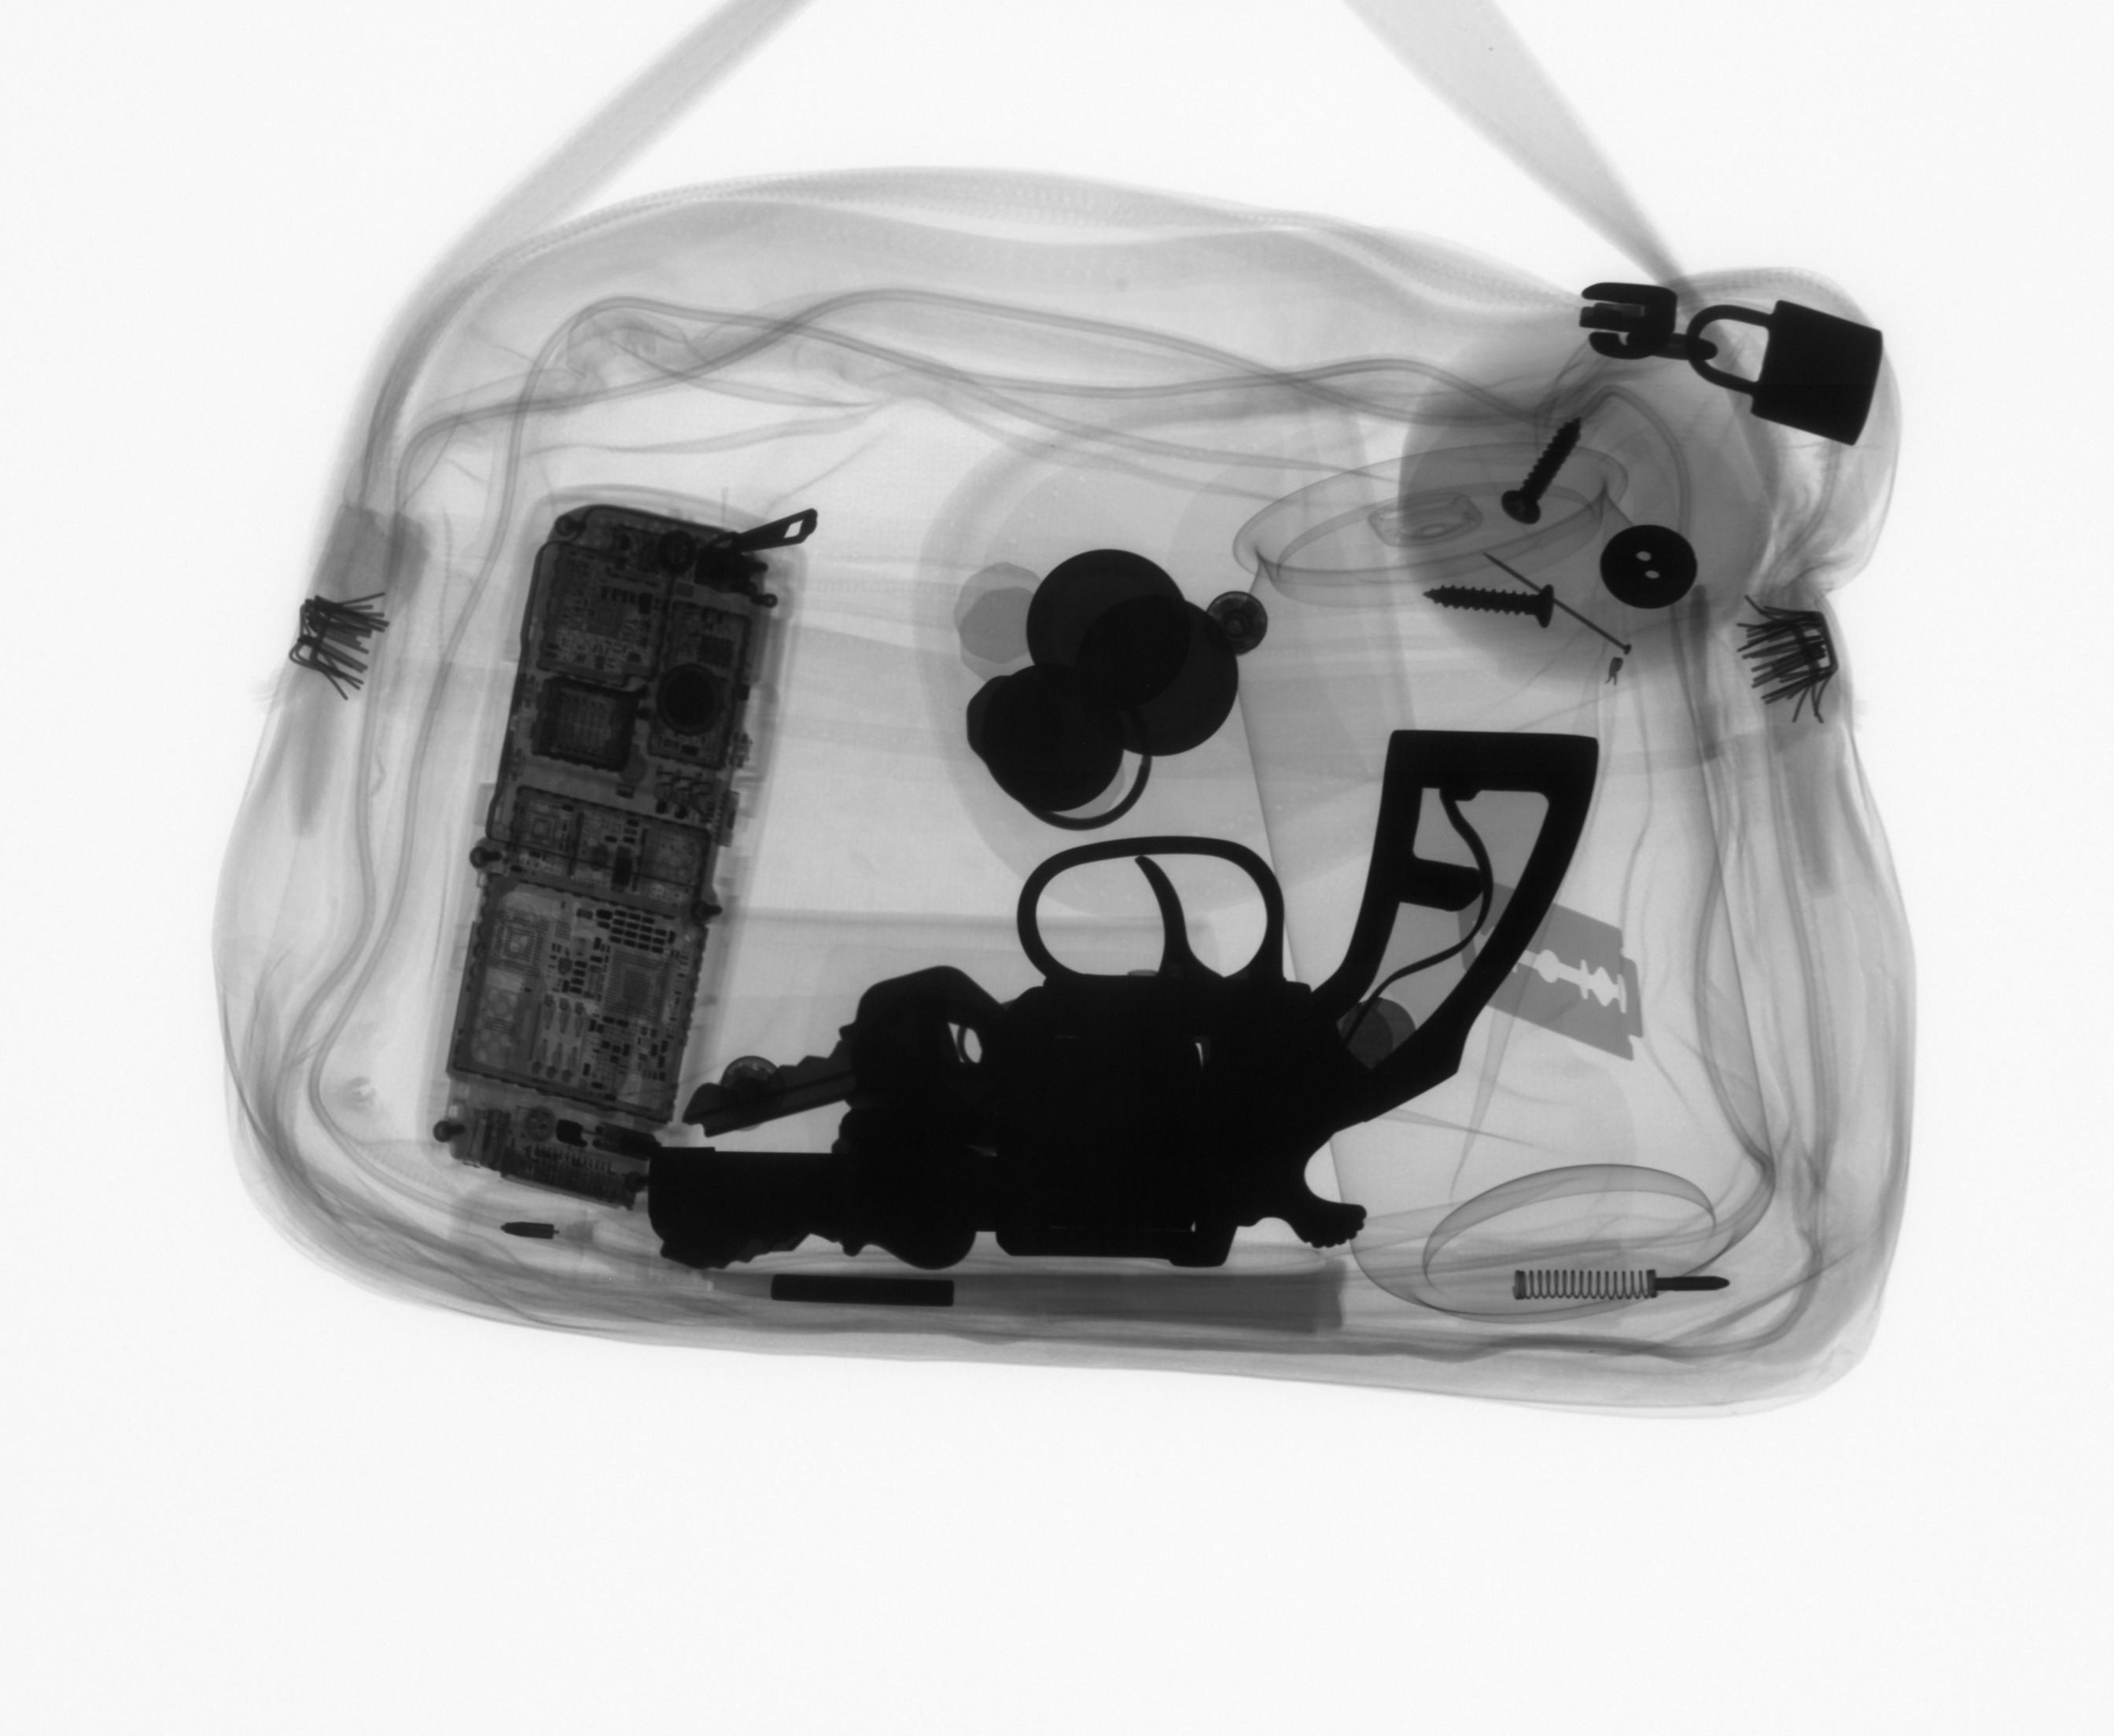Handgun: (637, 723, 1610, 1288)
RazorBlade: (1447, 869, 1654, 1071)
